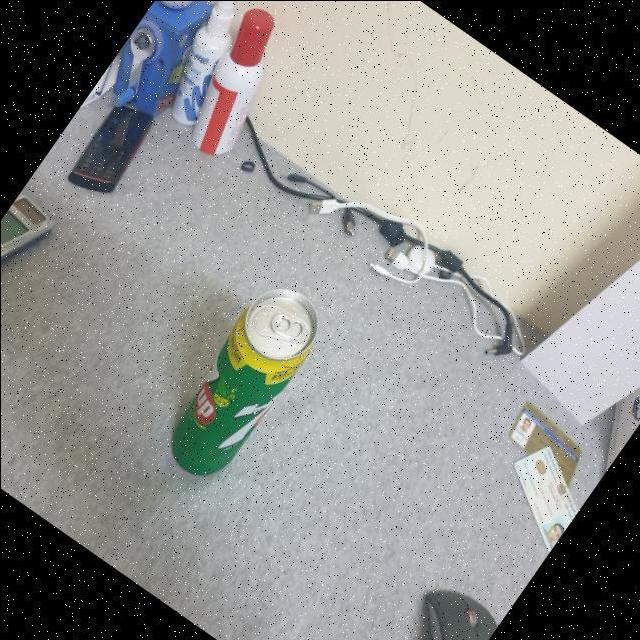can: (143, 257, 350, 499)
